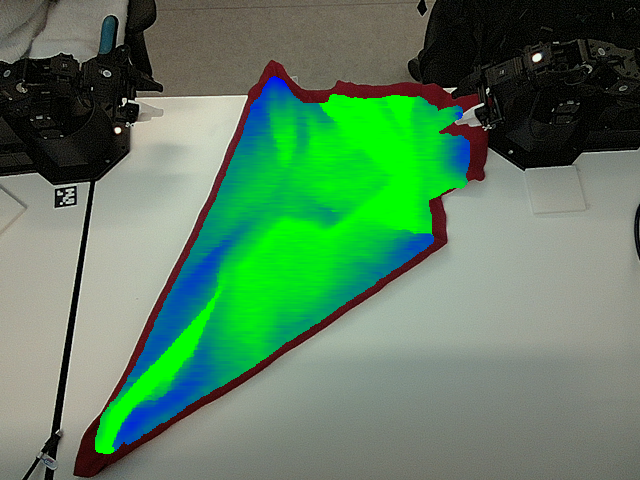V: (353, 152, 401, 194)
